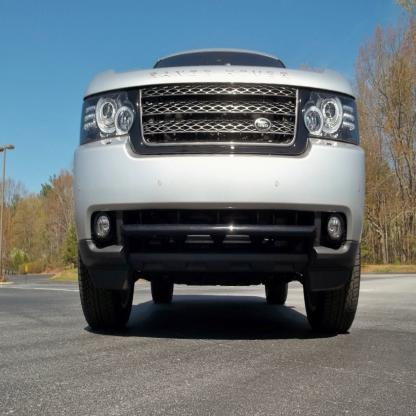car: (74, 44, 367, 342)
